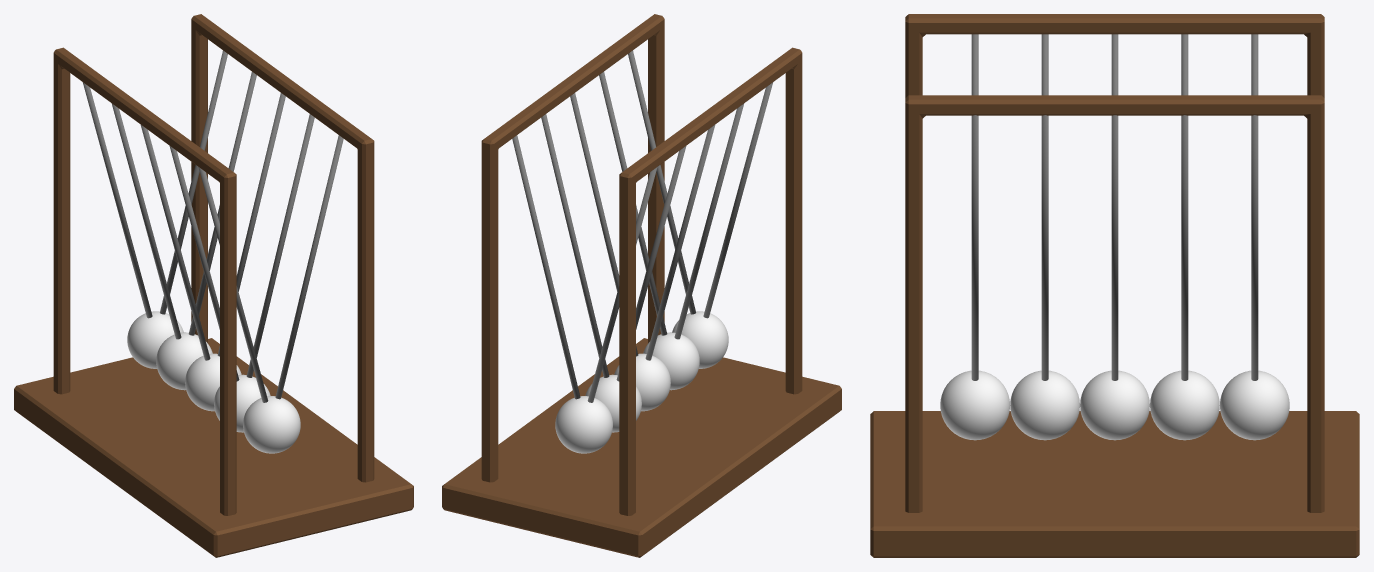
File: newtons_cradle.gltf
The picture shows the model from 3 angles, left to right: view 1: azimuth 30°, elevation 25°; view 2: azimuth 150°, elevation 25°; view 3: azimuth 270°, elevation 25°; orthographic projection. The views are drawn at different scales.
Visible parts, largest first — view 1: Cube, Cube.002, Cube.001, front_ball, Icosphere.003, back_ball, front_right_wire, Cylinder.003, Icosphere.002, Cylinder.005, Cylinder.006, back_left_wire (+6 smaller); view 2: Cube, Cube.002, Cube.001, back_ball, Icosphere.001, front_ball, back_right_wire, Cylinder.007, Icosphere.002, Cylinder.002, Cylinder.005, front_left_wire (+6 smaller); view 3: Cube, Cube.001, Cube.002, Icosphere.002, Icosphere.001, Icosphere.003, back_ball, front_ball, Cylinder.003, Cylinder.007, back_right_wire, Cylinder.004 (+1 smaller).
Boxes of the visible parts, left/top/right/bottom form: Cube: left=14, top=338, right=413, bottom=557; Cube.002: left=53, top=47, right=236, bottom=515; Cube.001: left=191, top=14, right=374, bottom=482; front_ball: left=243, top=396, right=300, bottom=453; Icosphere.003: left=156, top=332, right=212, bottom=390; back_ball: left=127, top=311, right=183, bottom=368; front_right_wire: left=275, top=135, right=343, bottom=399; Cylinder.003: left=246, top=114, right=314, bottom=377; Icosphere.002: left=185, top=353, right=241, bottom=411; Cylinder.005: left=140, top=125, right=210, bottom=360; Cylinder.006: left=111, top=103, right=181, bottom=339; back_left_wire: left=82, top=82, right=152, bottom=318; Cube: left=442, top=338, right=841, bottom=557; Cube.002: left=619, top=47, right=802, bottom=515; Cube.001: left=481, top=14, right=664, bottom=482; back_ball: left=555, top=396, right=612, bottom=453; Icosphere.001: left=643, top=332, right=699, bottom=390; front_ball: left=672, top=311, right=728, bottom=368; back_right_wire: left=512, top=135, right=580, bottom=399; Cylinder.007: left=541, top=114, right=609, bottom=377; Icosphere.002: left=614, top=353, right=670, bottom=411; Cylinder.002: left=674, top=103, right=744, bottom=339; Cylinder.005: left=645, top=125, right=715, bottom=360; front_left_wire: left=703, top=82, right=773, bottom=318; Cube: left=870, top=411, right=1359, bottom=557; Cube.001: left=905, top=95, right=1324, bottom=512; Cube.002: left=905, top=14, right=1324, bottom=97; Icosphere.002: left=1080, top=370, right=1149, bottom=440; Icosphere.001: left=1010, top=370, right=1079, bottom=440; Icosphere.003: left=1150, top=370, right=1219, bottom=440; back_ball: left=1220, top=370, right=1289, bottom=440; front_ball: left=940, top=370, right=1009, bottom=440; Cylinder.003: left=1041, top=115, right=1048, bottom=380; Cylinder.007: left=1181, top=115, right=1188, bottom=380; back_right_wire: left=1251, top=115, right=1258, bottom=380; Cylinder.004: left=1111, top=115, right=1118, bottom=380.
Size of the model in its own units: 8 by 14 by 14.
